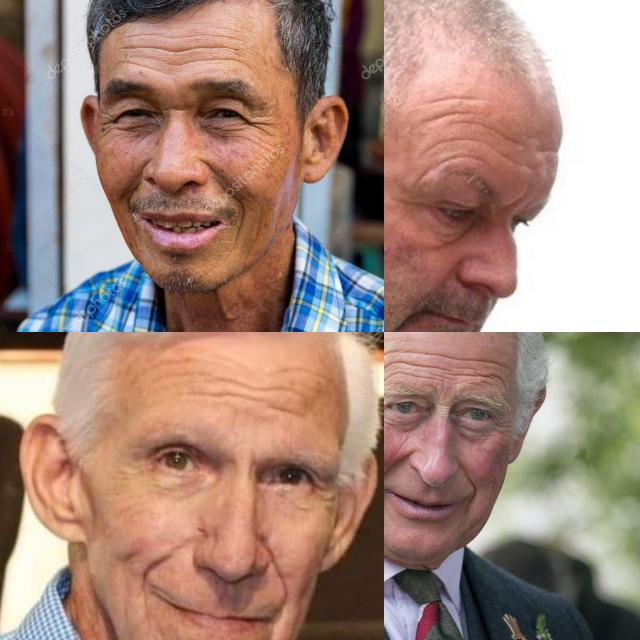crows_feet: (247, 109, 275, 149), (312, 470, 336, 510), (94, 108, 118, 134), (495, 418, 509, 436)
forehead: (275, 362, 315, 424), (212, 370, 270, 412), (454, 356, 506, 392), (384, 346, 438, 379), (204, 36, 252, 72), (156, 350, 202, 386), (158, 30, 198, 70), (434, 134, 481, 168), (416, 107, 476, 129), (500, 150, 540, 174), (125, 32, 151, 64), (431, 88, 477, 105), (495, 124, 523, 150)
frown_line: (434, 399, 451, 417)
gummy_smile: (120, 182, 146, 232), (138, 544, 172, 580), (266, 545, 292, 591), (228, 195, 255, 239), (384, 445, 407, 482), (462, 462, 481, 502)
